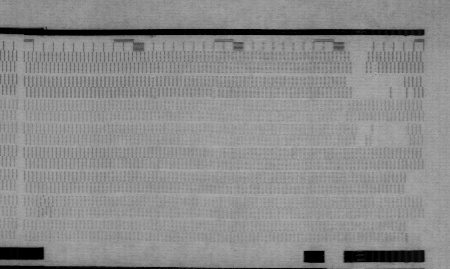Broken hole: (344, 75, 416, 101), (353, 120, 413, 148), (349, 50, 378, 76), (403, 170, 428, 195), (404, 220, 428, 244)
Oblique printing: (39, 194, 53, 218), (148, 75, 161, 100)
